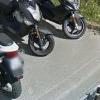Motorcycle: (3, 2, 95, 68)
